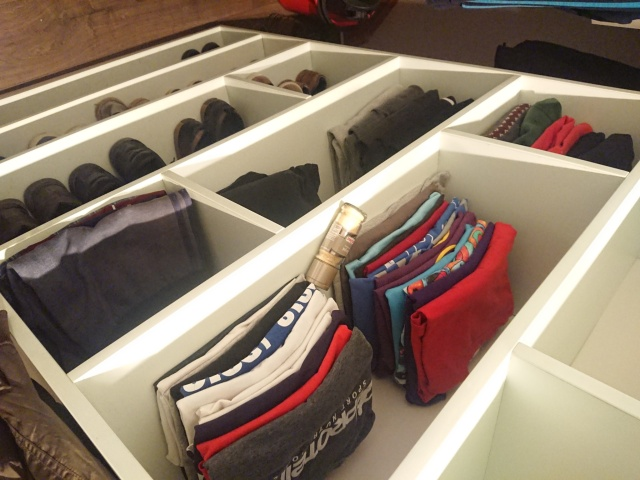Kotanyi Garlic Granules 70g: (303, 201, 369, 293)
